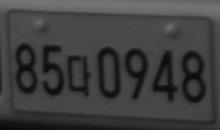0: (96, 46, 122, 99)
4: (150, 48, 179, 102)
5: (40, 44, 65, 97)
8: (179, 49, 206, 104), (13, 41, 39, 95)
9: (123, 46, 149, 99)
다: (67, 54, 92, 97)
